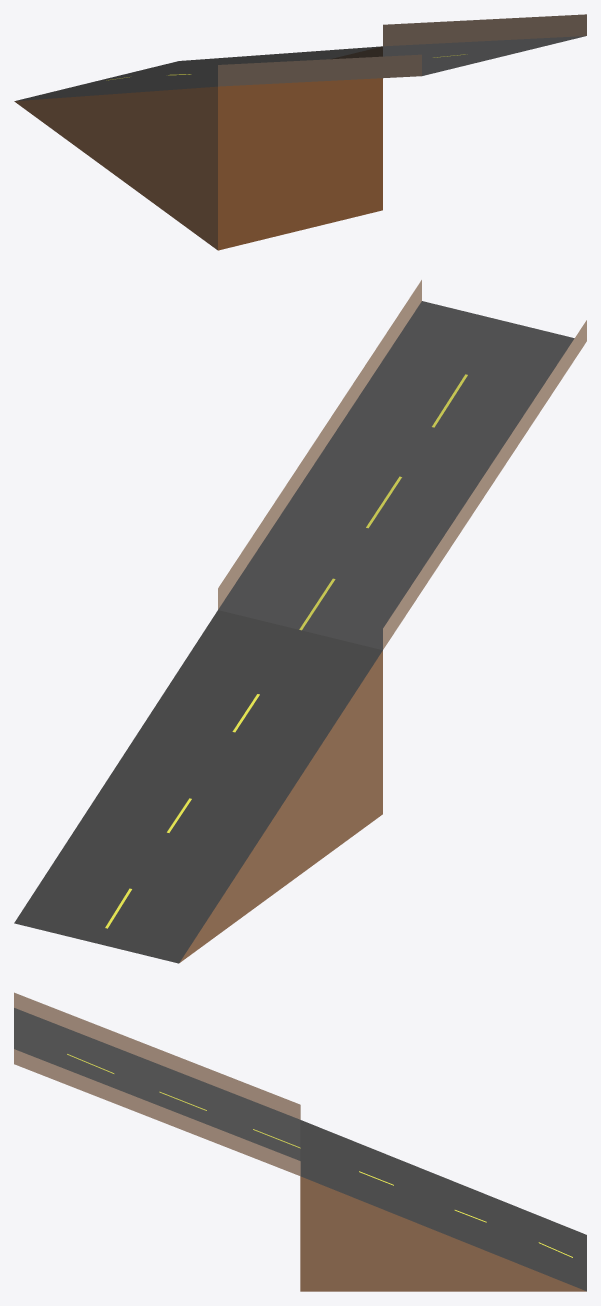
File: brid.obj
The picture shows the model from 3 angles, top to bottom: view 1: azimuth 30°, elevation 25°; view 2: azimuth 150°, elevation 25°; view 3: azimuth 270°, elevation 25°; orthographic projection. The views are drawn at different scales.
Size of the model in its own units: 240 by 480 by 1028.
